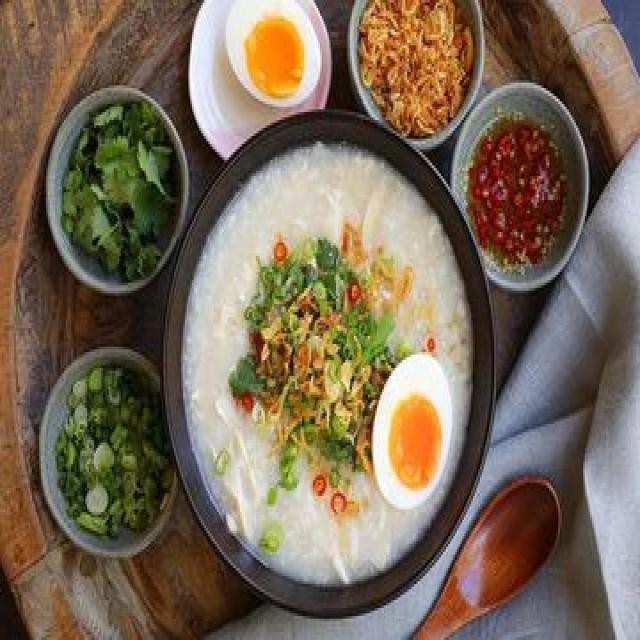bubur ayam: (181, 137, 474, 594)
mangkuk: (165, 137, 482, 604), (44, 84, 190, 295), (39, 347, 178, 560), (450, 81, 590, 292), (347, 0, 484, 149)
sambal: (469, 111, 568, 272)
telur rebus: (370, 352, 452, 509), (225, 0, 323, 109)
